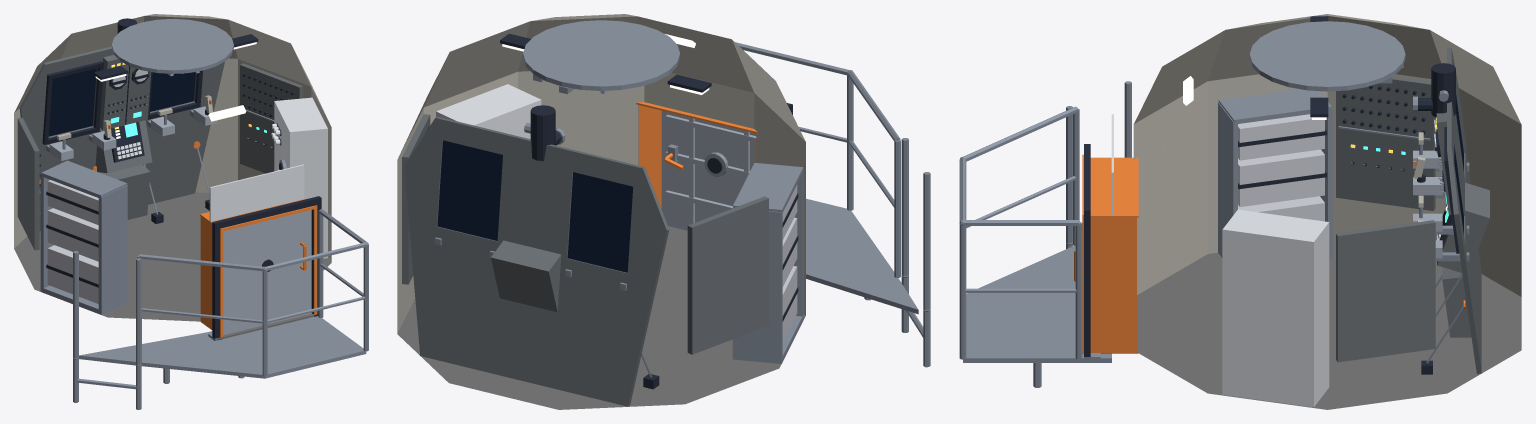
File: lander.glb
3 renders of one model, left to right at view 1: azimuth 30°, elevation 25°; view 2: azimuth 150°, elevation 25°; view 3: azimuth 270°, elevation 25°, orthographic. The views are drawn at different scales.
Parts seen in each view (by area): view 1: centre_stack, hand_controllers, bulkhead_cap, cabin_floor, bulkhead, hatch_leaf, stowage, windows_inner, floodlights, glow_centre; view 2: bulkhead, centre_stack, hand_controllers, bulkhead_cap, cabin_floor, windows_inner, hatch_leaf, stowage, floodlights; view 3: centre_stack, hand_controllers, bulkhead_cap, cabin_floor, stowage, bulkhead, floodlights.
Part boxes in pixels (left/top/right/bottom): centre_stack: left=39, top=18, right=368, bottom=409; hand_controllers: left=14, top=14, right=331, bottom=337; bulkhead_cap: left=17, top=55, right=302, bottom=250; cabin_floor: left=14, top=192, right=331, bottom=338; bulkhead: left=19, top=46, right=224, bottom=230; hatch_leaf: left=223, top=210, right=311, bottom=334; stowage: left=47, top=180, right=98, bottom=303; windows_inner: left=48, top=68, right=195, bottom=136; floodlights: left=94, top=34, right=258, bottom=138; glow_centre: left=110, top=63, right=273, bottom=137; bulkhead: left=404, top=116, right=669, bottom=406; centre_stack: left=426, top=20, right=930, bottom=389; hand_controllers: left=397, top=14, right=805, bottom=333; bulkhead_cap: left=402, top=114, right=768, bottom=354; cabin_floor: left=397, top=226, right=805, bottom=409; windows_inner: left=437, top=140, right=633, bottom=272; hatch_leaf: left=661, top=110, right=756, bottom=230; stowage: left=782, top=184, right=797, bottom=341; floodlights: left=500, top=33, right=711, bottom=94; centre_stack: left=959, top=21, right=1469, bottom=407; hand_controllers: left=1082, top=14, right=1521, bottom=353; bulkhead_cap: left=1336, top=76, right=1489, bottom=362; cabin_floor: left=1100, top=238, right=1521, bottom=409; stowage: left=1238, top=114, right=1324, bottom=221; bulkhead: left=1447, top=47, right=1481, bottom=373; floodlights: left=1183, top=16, right=1447, bottom=211.
Bounding box in the file's own units: 2.81 × 2.19 × 3.39.
